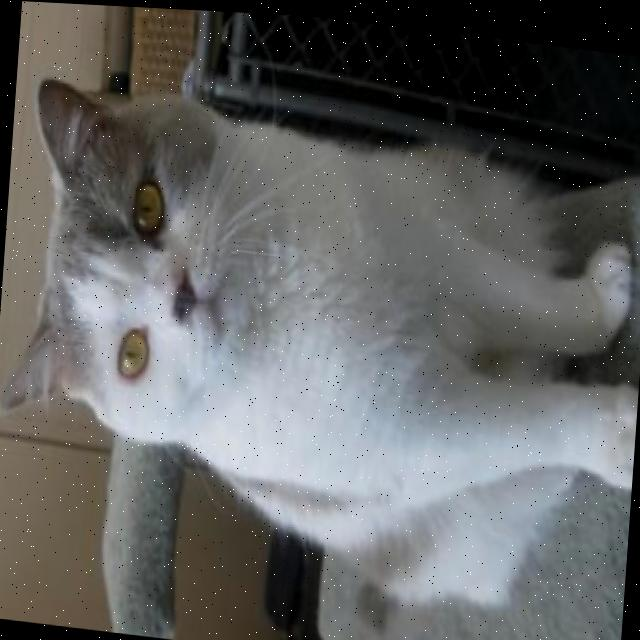British Shorthair: (0, 61, 640, 628)
